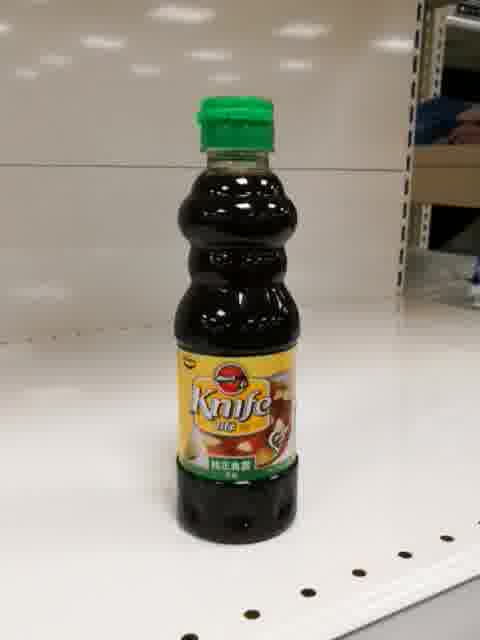cookingoil: (174, 94, 301, 545)
